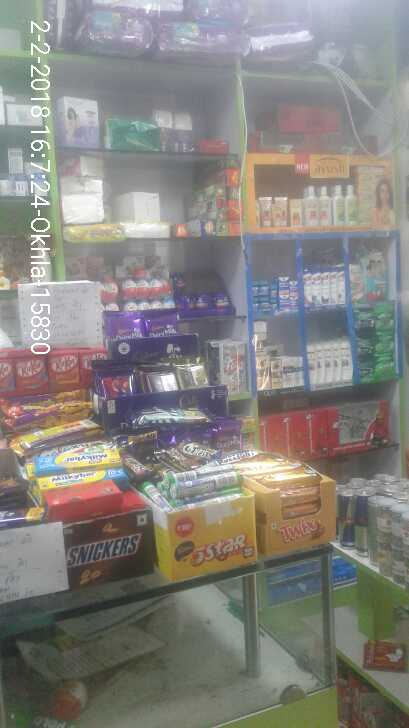vicks: (247, 272, 299, 314)
